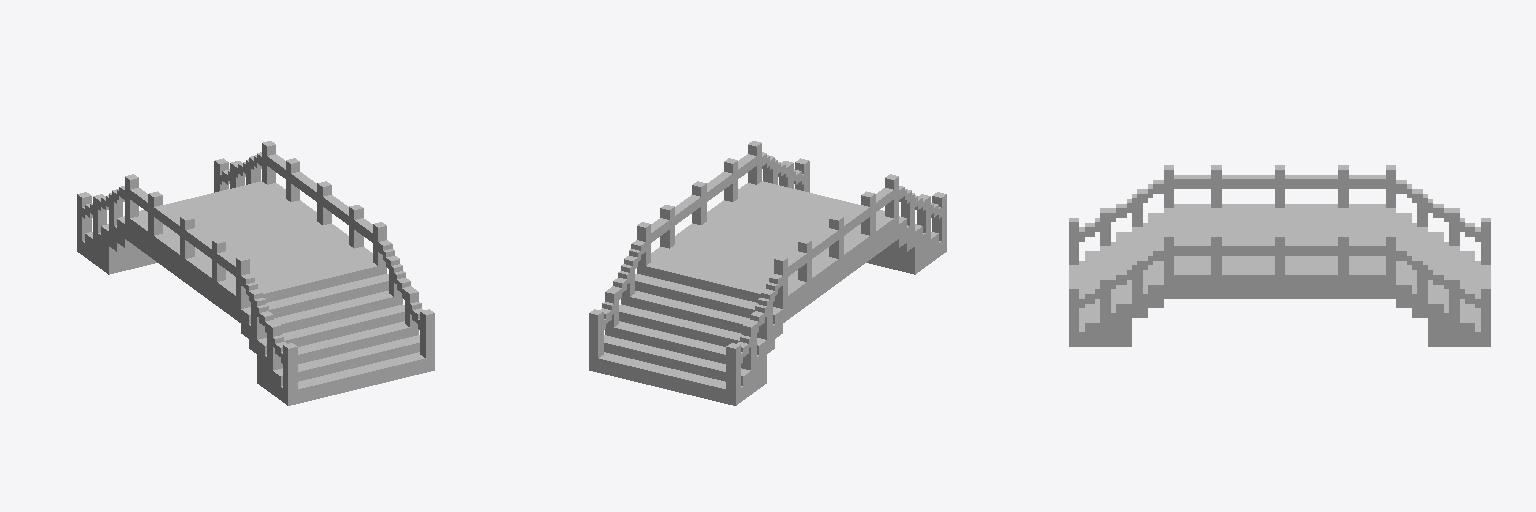
File: Bridge.obj
The picture shows the model from 3 angles: view 1: azimuth 30°, elevation 25°; view 2: azimuth 150°, elevation 25°; view 3: azimuth 270°, elevation 25°; orthographic projection.
Visible parts, largest first — view 1: object 1; view 2: object 1; view 3: object 1.
Boxes of the visible parts, x1=… form: object 1: x1=77, y1=141, x2=434, y2=405; object 1: x1=589, y1=141, x2=946, y2=405; object 1: x1=1069, y1=165, x2=1490, y2=346.
Size of the model in its own units: 3.2 by 2.3 by 8.